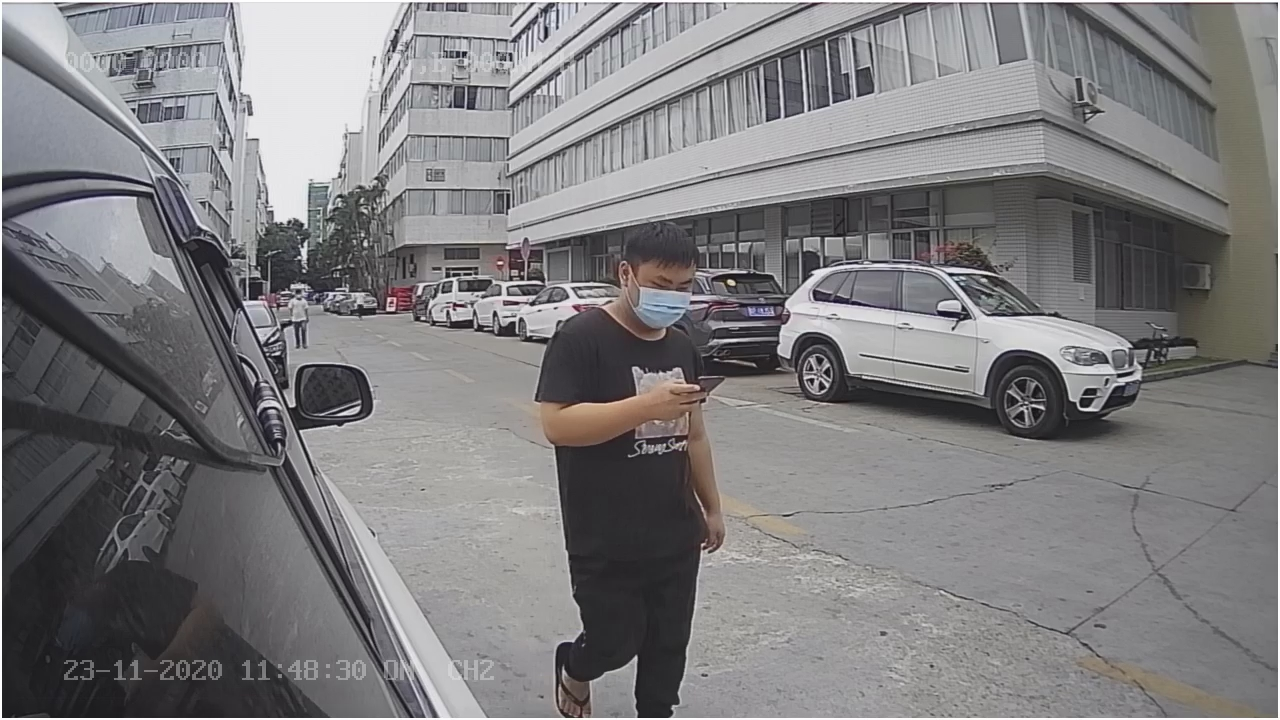person: (538, 211, 740, 553)
